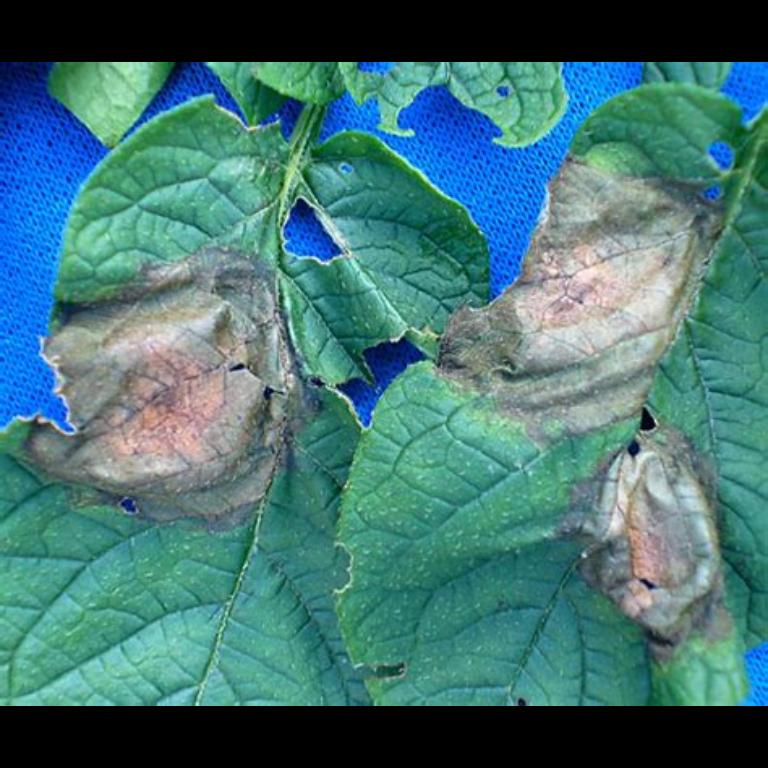blight: (71, 250, 280, 528), (475, 214, 701, 420), (582, 442, 728, 632)
